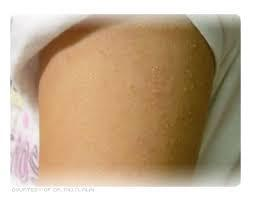Goosebumps: (39, 23, 214, 175)
